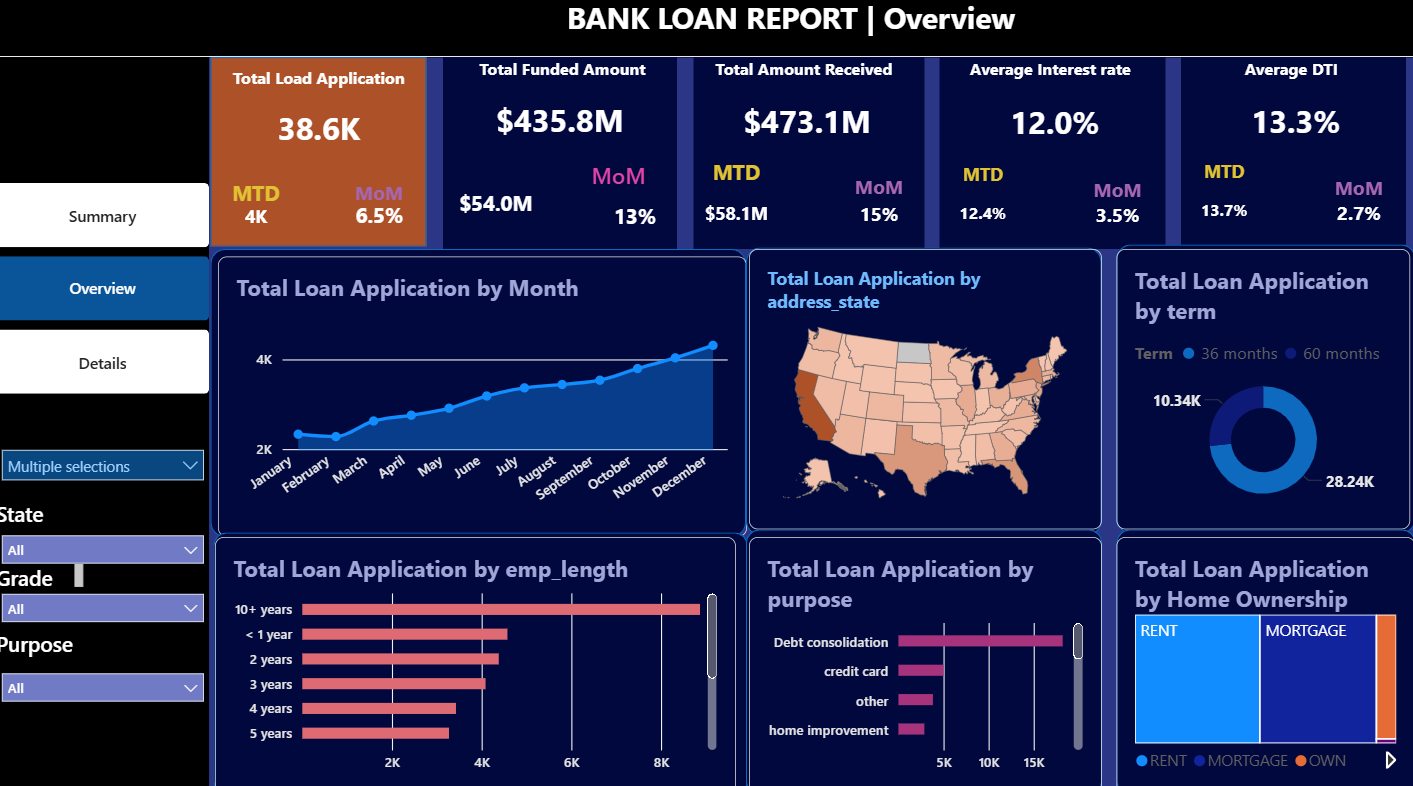

The page's visual inventory and layout, read from the dashboard file:
{"tool":"powerbi","page":{"name":"Overview","canvas":[1280,720],"ordinal":1},"visuals":[{"type":"shape","box":[0,0,1279.5,54.5],"z":0},{"type":"shape","box":[0,54.5,192.3,664.7],"z":1000},{"type":"textbox","box":[466.4,0,499.7,54.5],"z":2000},{"type":"shape","box":[193,53.6,194.6,170.9],"z":2000,"group":"g1"},{"type":"group","id":"g1","title":"Group 1","box":[192.7,53.6,195.3,170.9],"z":3000},{"type":"group","id":"g2","title":"Group 2","box":[402.8,54.2,211.5,172.6],"z":4000},{"type":"card","fields":{"Values":["financial_loan (2).Total Funded Amount"]},"box":[403.4,78.6,210.3,67],"z":4000,"group":"g2"},{"type":"card","fields":{"Values":["financial_loan (2).Avearge DTI"]},"box":[1070.3,81.1,201.4,64.7],"z":4000,"group":"g5"},{"type":"card","fields":{"Values":["financial_loan (2).Totak Amount Received"]},"box":[629.8,81.5,201.7,65.6],"z":4000,"group":"g3"},{"type":"card","fields":{"Values":["financial_loan (2).Average Interest Rate"]},"box":[852,81.6,202.4,65.9],"z":4000,"group":"g4"},{"type":"card","fields":{"Values":["financial_loan (2).Total Loan Application"]},"box":[192.7,88.5,195.3,60.6],"z":4000,"group":"g1"},{"type":"textbox","box":[410.7,54.2,199.3,28],"z":5000,"group":"g2"},{"type":"group","id":"g3","title":"Group 2","box":[627.9,54.2,208.2,172.6],"z":5000},{"type":"textbox","box":[627.9,54.2,199.2,28.5],"z":5000,"group":"g3"},{"type":"textbox","box":[850.1,54.2,199.9,28.5],"z":5000,"group":"g4"},{"type":"textbox","box":[1068.4,54.2,198.9,28],"z":5000,"group":"g5"},{"type":"textbox","box":[192.7,61.2,195.3,27.3],"z":5000,"group":"g1"},{"type":"group","id":"g4","title":"Group 2","box":[849.6,54.2,204.8,172.6],"z":6000},{"type":"card","title":"MTD","fields":{"Values":["financial_loan (2).MTD Total Received Amount"]},"box":[629.3,144.5,74.6,78.7],"z":6000,"group":"g3"},{"type":"card","title":"MTD","fields":{"Values":["financial_loan (2).MTD Average DTI"]},"box":[1067.9,146.7,77.8,72.3],"z":6000,"group":"g5"},{"type":"card","title":"MTD","fields":{"Values":["financial_loan (2).MTD Average Insterest rate"]},"box":[849.6,148.4,78.2,73.6],"z":6000,"group":"g4"},{"type":"card","title":"MTD","fields":{"Values":["financial_loan (2).MTD Load Applications"]},"box":[192.7,149.1,81.8,72.7],"z":6000,"group":"g1"},{"type":"card","title":"MTD","fields":{"Values":["financial_loan (2).MTD Total Funded Amount"]},"box":[402.8,149.2,95,77.6],"z":6000,"group":"g2"},{"type":"card","title":"MoM","fields":{"Values":["financial_loan (2).MoM Received Amount"]},"box":[753,144.5,83.1,82.3],"z":7000,"group":"g3"},{"type":"card","title":"MoM","fields":{"Values":["financial_loan (2).MoM Average DTI"]},"box":[1186.4,146.1,82.9,77.6],"z":7000,"group":"g5"},{"type":"card","title":"MoM","fields":{"Values":["financial_loan (2).MoM Total Funded Amount"]},"box":[536.3,147.4,78,75.9],"z":7000,"group":"g2"},{"type":"card","title":"MoM","fields":{"Values":["financial_loan (2).MoM Interest Rate"]},"box":[968.7,147.8,83.3,79],"z":7000,"group":"g4"},{"type":"card","title":"MoM","fields":{"Values":["financial_loan (2).MoM Load Applications"]},"box":[300.2,149.1,87.8,72.7],"z":7000,"group":"g1"},{"type":"shape","box":[193.3,227.1,482.6,259.5],"z":7000},{"type":"group","id":"g5","title":"Group 2","box":[1067.9,54.2,203.1,169.2],"z":8000},{"type":"textbox","box":[212,93,1068,150],"z":9000},{"type":"slicer","fields":{"Values":["financial_loan (2).address_state"]},"box":[0,480,192.3,53],"z":10000},{"type":"textbox","box":[0,452.7,60.6,27.3],"z":11000},{"type":"textbox","box":[0,510.3,78.7,22.7],"z":12000},{"type":"slicer","fields":{"Values":["financial_loan (2).grade"]},"box":[0,533,192.3,37.9],"z":13000},{"type":"textbox","box":[0,570.9,180.2,33.3],"z":14000},{"type":"slicer","fields":{"Values":["financial_loan (2).purpose"]},"box":[0,604.2,192.3,43.9],"z":15000},{"type":"areaChart","fields":{"Y":["financial_loan (2).Total Loan Application"],"Category":["Date Table.Date.Variation.Date Hierarchy.Month"]},"box":[199.9,233.2,477,252.9],"z":16000},{"type":"slicer","fields":{"Values":["Select Measure.Select Measure"]},"box":[0,402.8,192.3,50],"z":17000},{"type":"shape","box":[675.9,225.7,320.4,259.5],"z":18000},{"type":"shapeMap","fields":{"Value":["financial_loan (2).Total Loan Application"],"Category":["financial_loan (2).address_state"]},"box":[678.4,227.1,318,252.9],"z":19000},{"type":"shape","box":[1010,222.6,269.5,260.4],"z":20000},{"type":"donutChart","fields":{"Y":["financial_loan (2).Total Loan Application"],"Category":["financial_loan (2).term"]},"box":[1010,227.1,265,252.9],"z":21000},{"type":"shape","box":[195.3,483,481.5,236.2],"z":22000},{"type":"barChart","fields":{"Y":["financial_loan (2).Total Loan Application"],"Category":["financial_loan (2).emp_length"]},"box":[196.8,486.1,469.4,233.2],"z":23000},{"type":"shape","box":[675.3,480,321,239.2],"z":24000},{"type":"barChart","fields":{"Y":["financial_loan (2).Total Loan Application"],"Category":["financial_loan (2).purpose"]},"box":[678.4,486.1,318,233.2],"z":25000},{"type":"shape","box":[1010,480,269.5,239.2],"z":26000},{"type":"treemap","fields":{"Values":["financial_loan (2).Total Loan Application"],"Group":["financial_loan (2).home_ownership"]},"box":[1010,486.1,269.5,233.2],"z":27000},{"type":"pageNavigator","box":[0,168.1,192.3,192.3],"z":28000}]}

Visuals, with their boxes in screenshot pixels (x1, y1, x2, y2), scaled from the page's 1280x720 canvas onto the 1413x786 screenshot:
shape: BBox(0, 0, 1412, 59)
shape: BBox(0, 59, 212, 785)
textbox: BBox(515, 0, 1066, 59)
shape: BBox(213, 59, 428, 245)
"Group 1" group: BBox(213, 59, 428, 245)
"Group 2" group: BBox(445, 59, 678, 248)
card - financial_loan (2).Total Funded Amount: BBox(445, 86, 677, 159)
card - financial_loan (2).Avearge DTI: BBox(1182, 89, 1404, 159)
card - financial_loan (2).Totak Amount Received: BBox(695, 89, 918, 161)
card - financial_loan (2).Average Interest Rate: BBox(941, 89, 1164, 161)
card - financial_loan (2).Total Loan Application: BBox(213, 97, 428, 163)
textbox: BBox(453, 59, 673, 90)
"Group 2" group: BBox(693, 59, 923, 248)
textbox: BBox(693, 59, 913, 90)
textbox: BBox(938, 59, 1159, 90)
textbox: BBox(1179, 59, 1399, 90)
textbox: BBox(213, 67, 428, 97)
"Group 2" group: BBox(938, 59, 1164, 248)
"MTD" card: BBox(695, 158, 777, 244)
"MTD" card: BBox(1179, 160, 1265, 239)
"MTD" card: BBox(938, 162, 1024, 242)
"MTD" card: BBox(213, 163, 303, 242)
"MTD" card: BBox(445, 163, 550, 248)
"MoM" card: BBox(831, 158, 923, 248)
"MoM" card: BBox(1310, 159, 1401, 244)
"MoM" card: BBox(592, 161, 678, 244)
"MoM" card: BBox(1069, 161, 1161, 248)
"MoM" card: BBox(331, 163, 428, 242)
shape: BBox(213, 248, 746, 531)
"Group 2" group: BBox(1179, 59, 1403, 244)
textbox: BBox(234, 102, 1412, 265)
slicer - financial_loan (2).address_state: BBox(0, 524, 212, 582)
textbox: BBox(0, 494, 67, 524)
textbox: BBox(0, 557, 87, 582)
slicer - financial_loan (2).grade: BBox(0, 582, 212, 623)
textbox: BBox(0, 623, 199, 660)
slicer - financial_loan (2).purpose: BBox(0, 660, 212, 708)
areaChart - financial_loan (2).Total Loan Application x Date Table.Date.Variation.Date Hierarchy.Month: BBox(221, 255, 747, 531)
slicer - Select Measure.Select Measure: BBox(0, 440, 212, 494)
shape: BBox(746, 246, 1100, 530)
shapeMap - financial_loan (2).Total Loan Application x financial_loan (2).address_state: BBox(749, 248, 1100, 524)
shape: BBox(1115, 243, 1412, 527)
donutChart - financial_loan (2).Total Loan Application x financial_loan (2).term: BBox(1115, 248, 1407, 524)
shape: BBox(216, 527, 747, 785)
barChart - financial_loan (2).Total Loan Application x financial_loan (2).emp_length: BBox(217, 531, 735, 785)
shape: BBox(745, 524, 1100, 785)
barChart - financial_loan (2).Total Loan Application x financial_loan (2).purpose: BBox(749, 531, 1100, 785)
shape: BBox(1115, 524, 1412, 785)
treemap - financial_loan (2).Total Loan Application x financial_loan (2).home_ownership: BBox(1115, 531, 1412, 785)
pageNavigator: BBox(0, 184, 212, 393)
